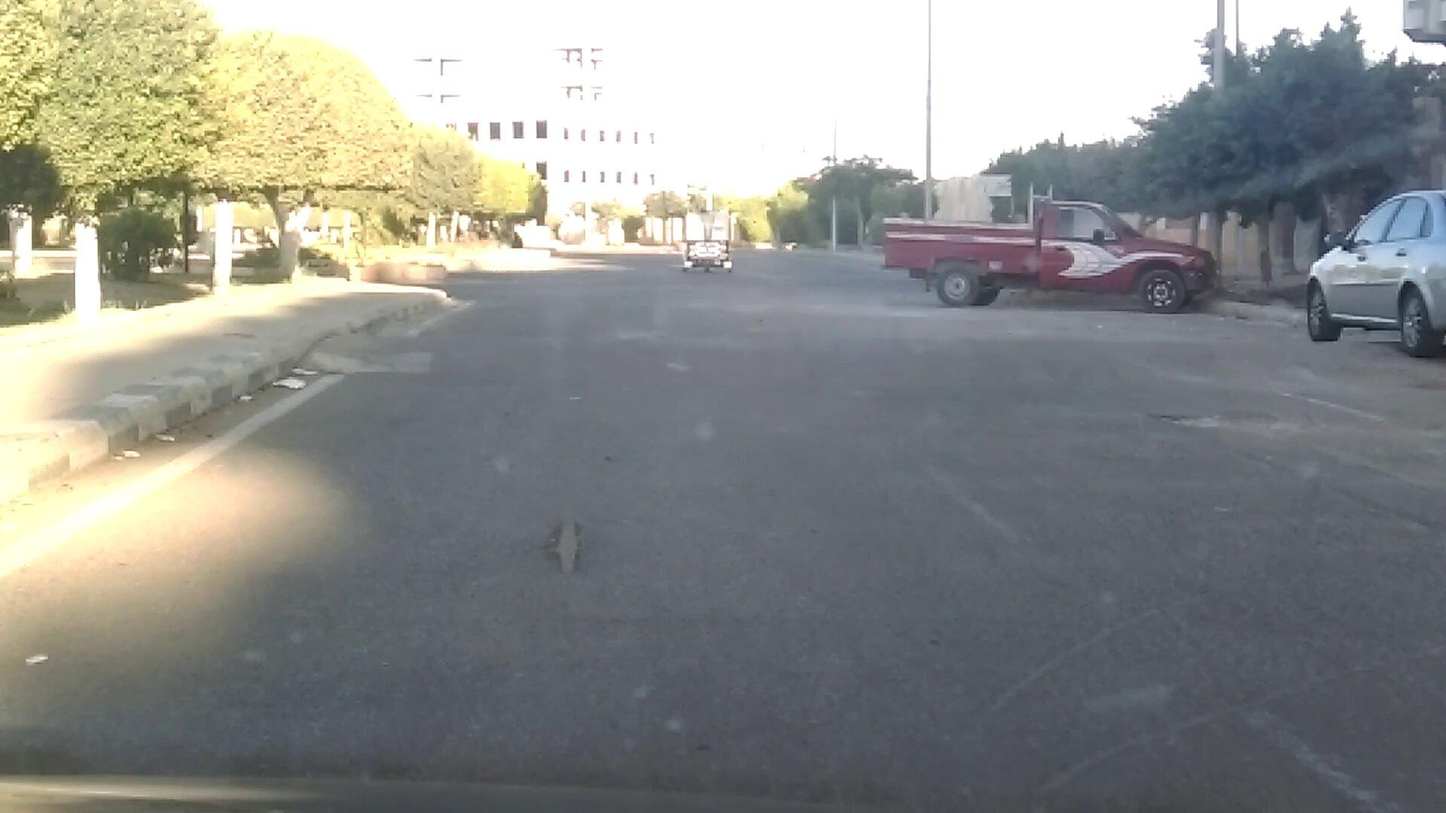Bump: (377, 312, 1318, 380)
Pothole: (537, 510, 621, 615), (1171, 403, 1310, 457)
